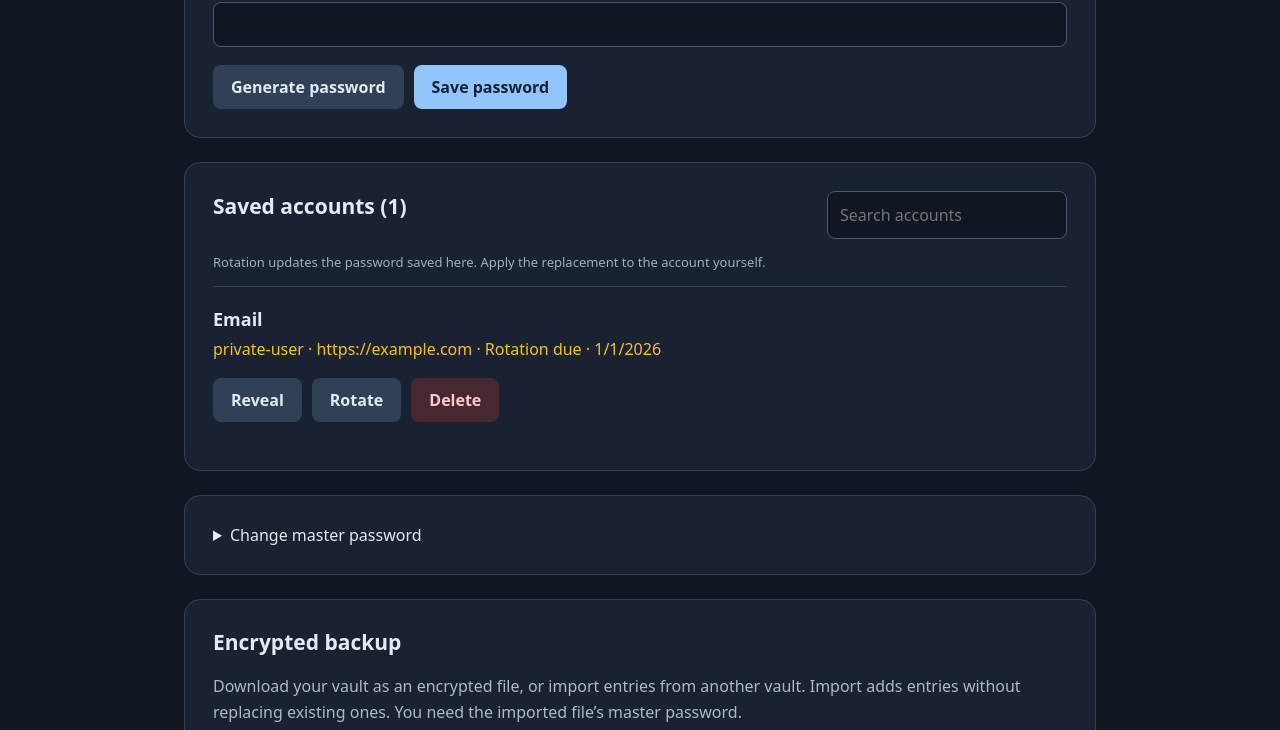
Test case: vault workflows › clears the workspace when an API request reports an expired session
(page scrolled)
Step 1. Click the button "Reveal" → coordinates (257, 400), box [213,378,302,422]
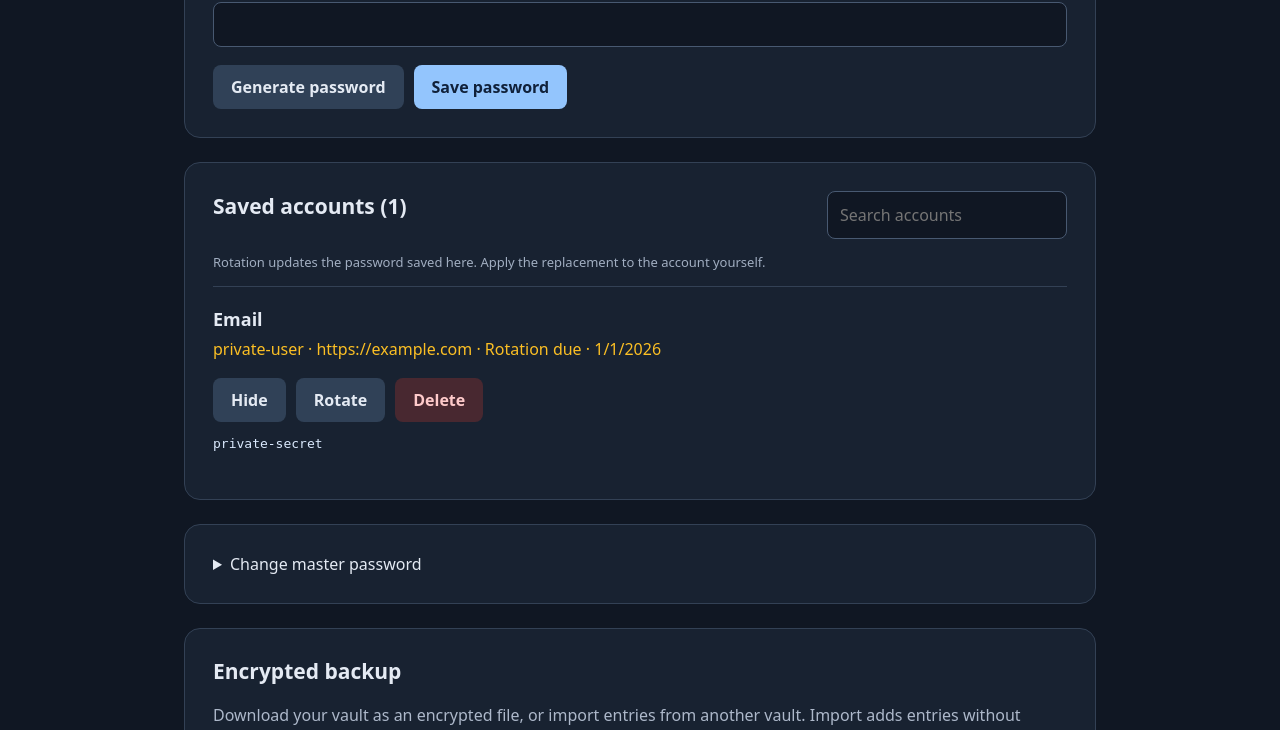
Step 2. Click the button "Generate password" → coordinates (308, 87), box [213,65,404,109]
(page scrolled)
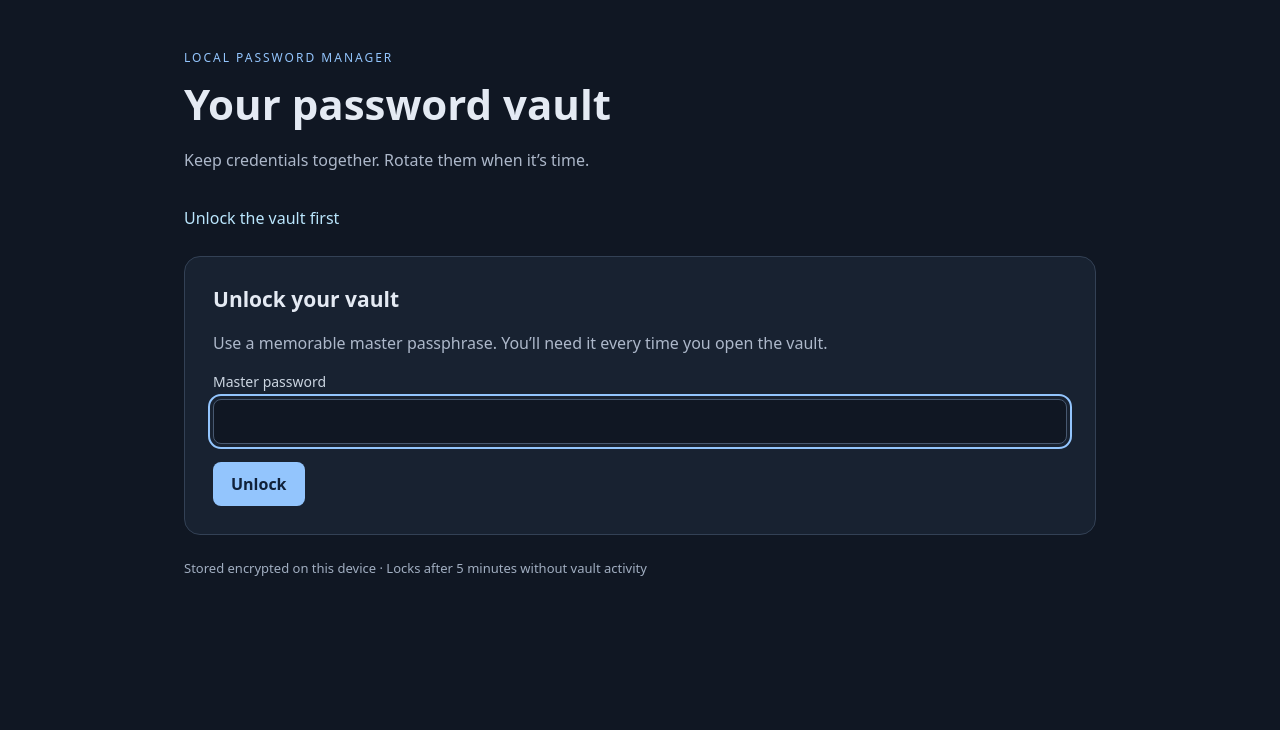
Expected: the heading "Unlock your vault" is shown, [213,285,399,313]
Expected: the text "private-secret" is gone
Expected: the message reads "Unlock the vault first", [184,207,339,229]
